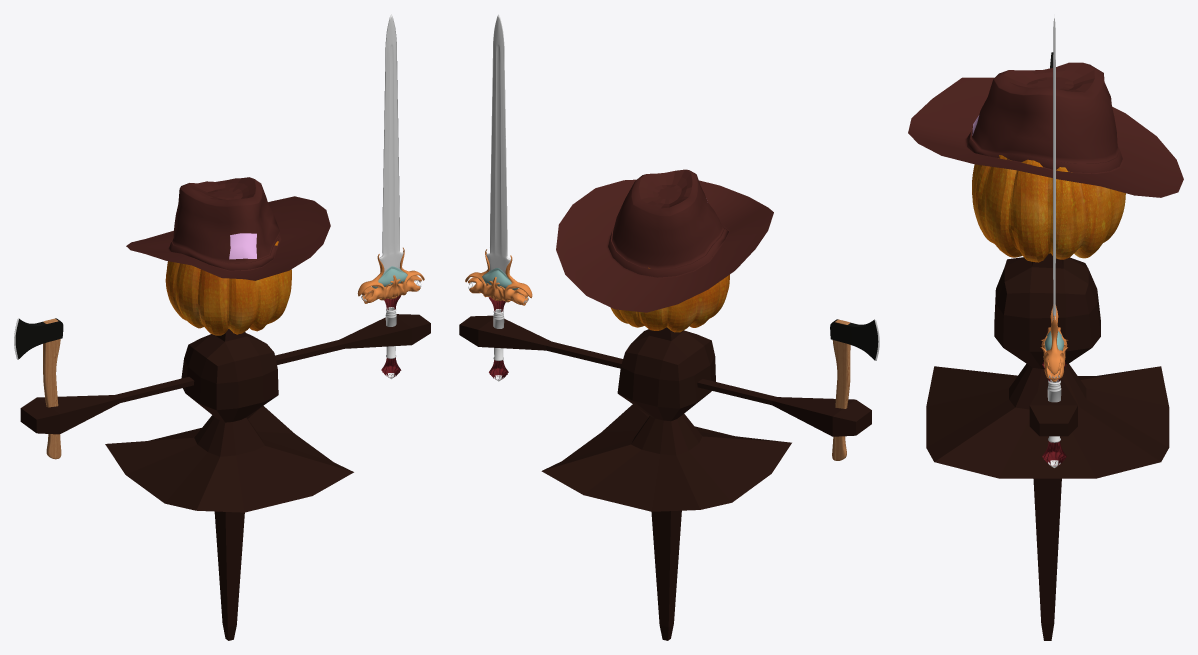
The model's file is random-hallowweeen-gud-gud.fbx.
3 renders of one model, left to right at view 1: azimuth 30°, elevation 25°; view 2: azimuth 150°, elevation 25°; view 3: azimuth 270°, elevation 25°, orthographic. The views are drawn at different scales.
Visible parts, largest first — view 1: pumpkin_.001; view 2: pumpkin_.001; view 3: pumpkin_.001.
Boxes of the visible parts, left/top/right/bottom form: pumpkin_.001: left=14, top=14, right=430, bottom=640; pumpkin_.001: left=459, top=14, right=879, bottom=640; pumpkin_.001: left=908, top=14, right=1183, bottom=640.
Size of the model in its own units: 7043 by 9536 by 3289.
Materials: 14 (3 with a texture image).
